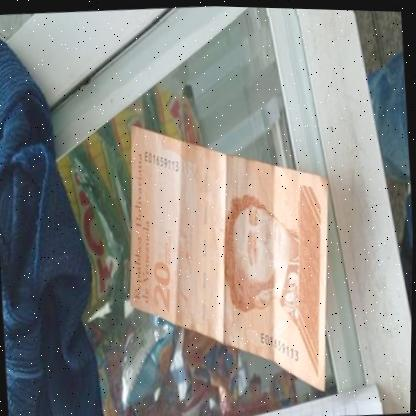twenty-front-vef: (117, 108, 345, 403)
